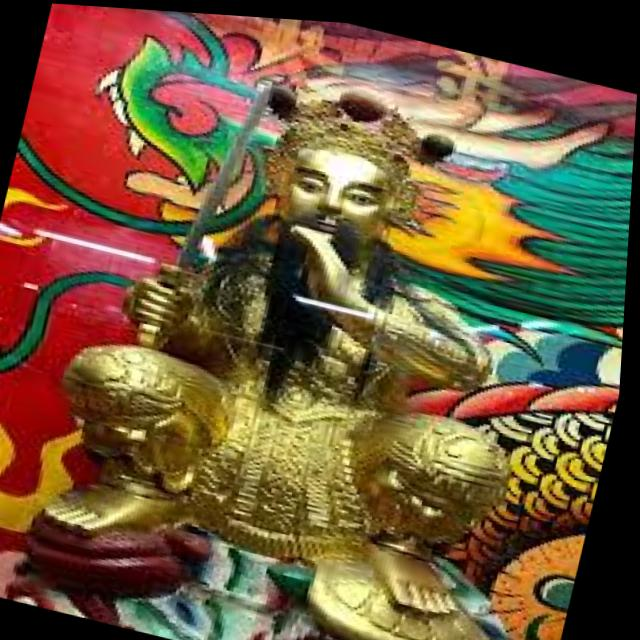Xuan wu: (123, 51, 524, 507)
